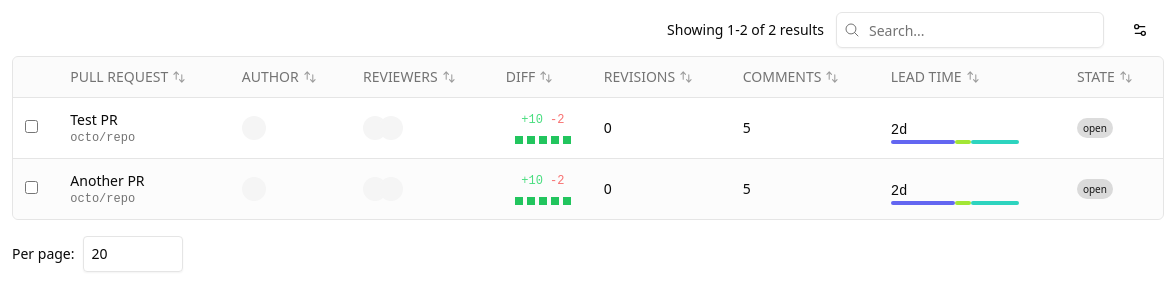
MetricsTable additional coverage (merged) › switching repository then author clears repository filter
Type "Another" into the field with placeholder "Search..." at point(970, 30), box [836, 12, 1104, 48]
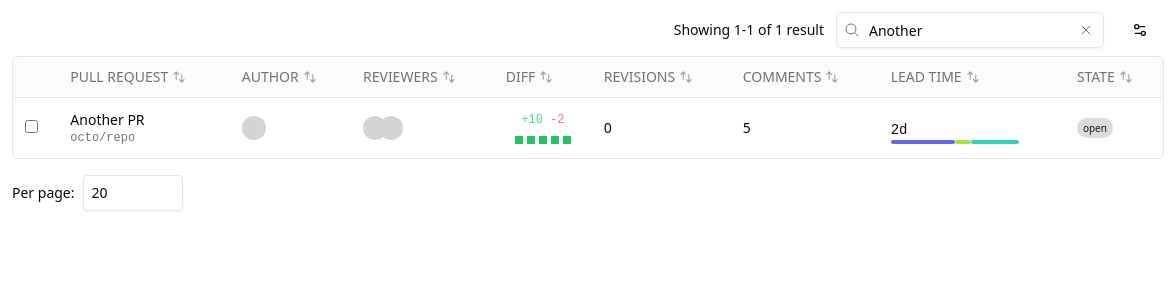
Expected: the link "Another PR" is shown, [70, 110, 145, 128]
Now the link "Test PR" is gone
